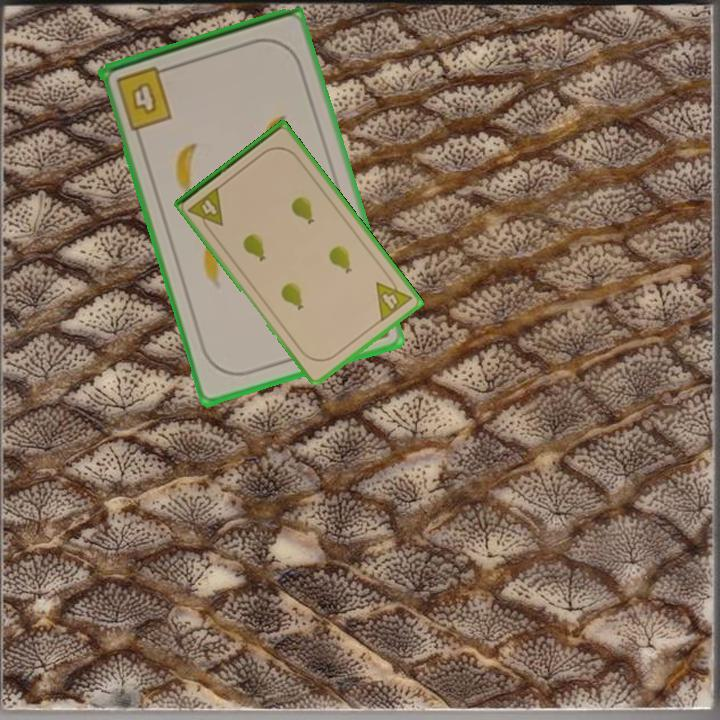4b: (112, 62, 176, 133)
4p: (372, 271, 415, 325), (184, 183, 227, 236)
